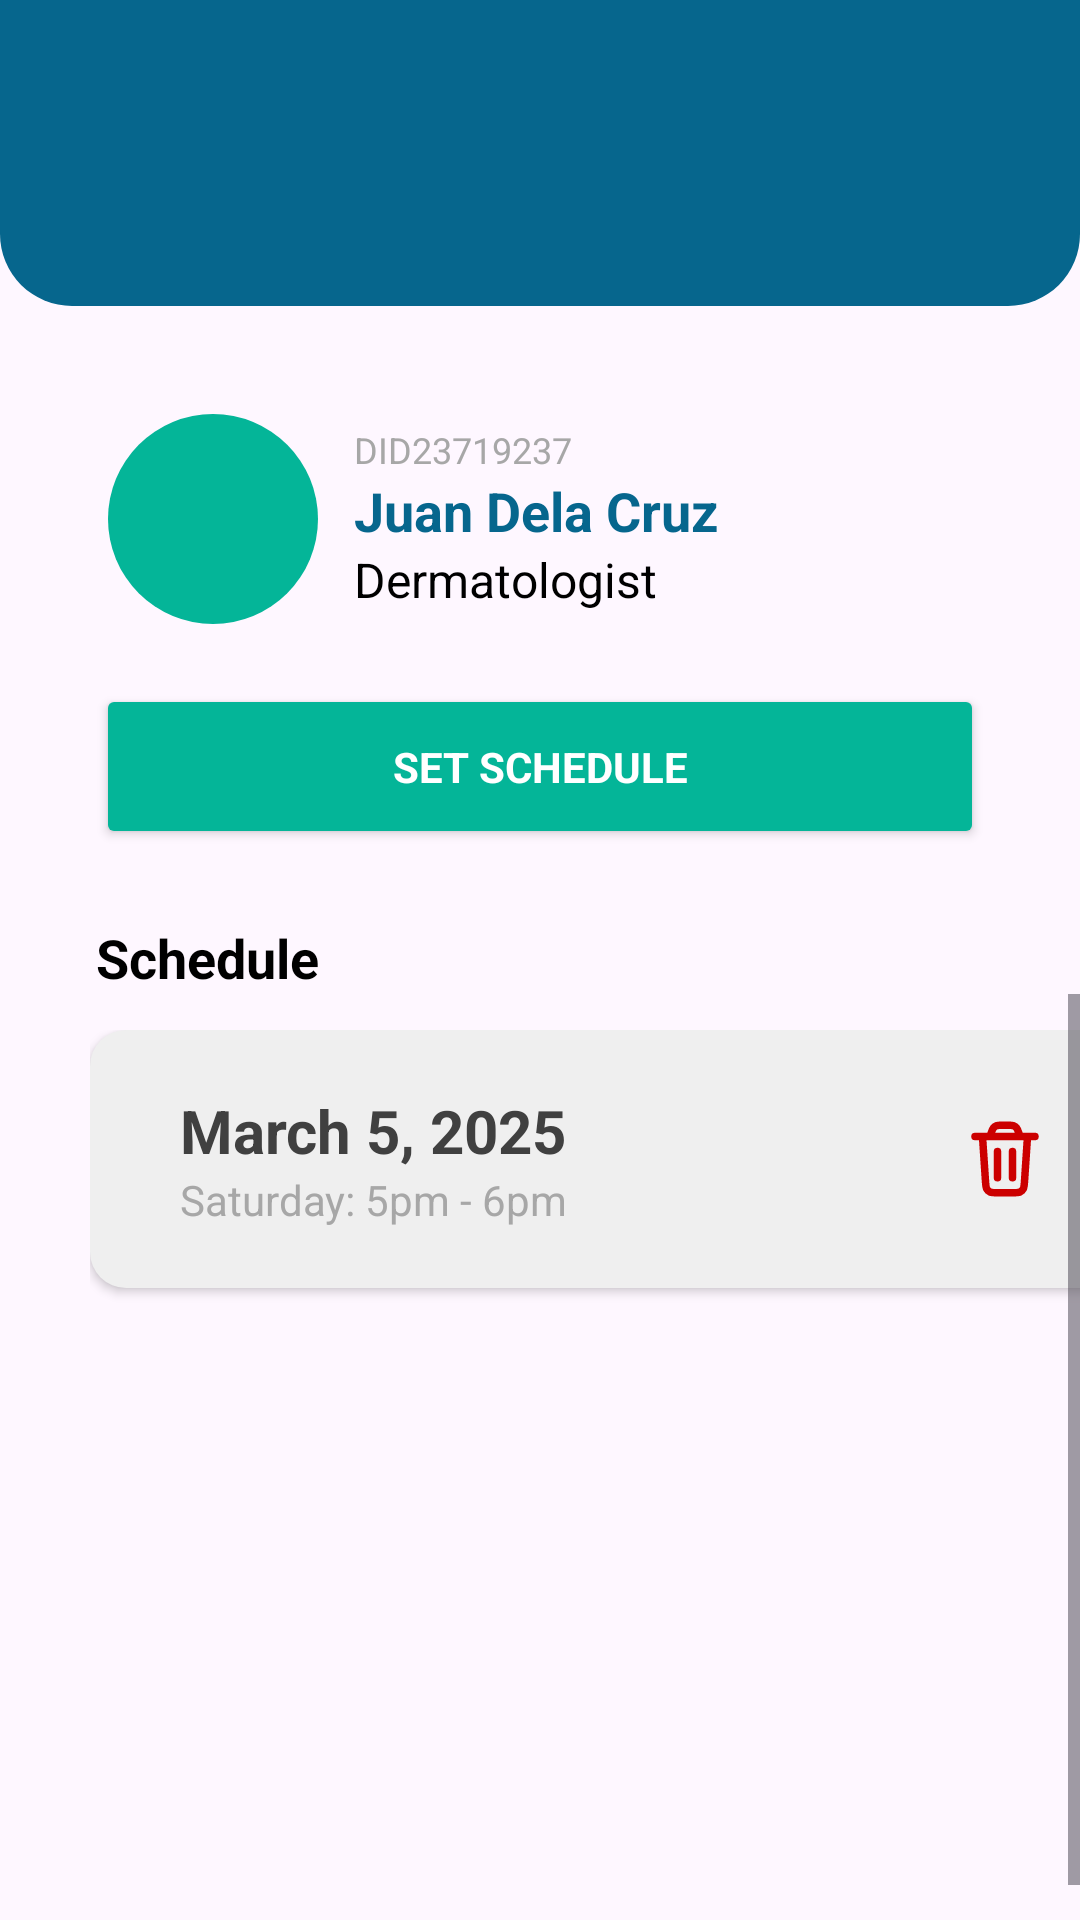

Locate icon controls on the screen. Image size 1080px×1920px, boxes as (x1, y1, x2, y2).
Delete: (971, 1121, 1039, 1197)
